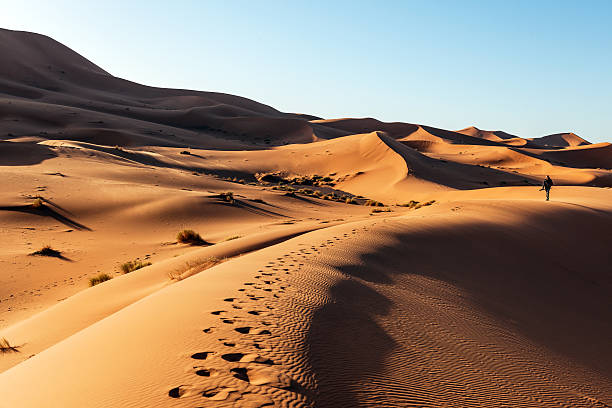animal_footprint: (231, 225, 350, 323), (247, 366, 291, 385), (221, 353, 274, 364), (202, 387, 240, 400), (191, 352, 215, 360), (169, 386, 184, 397), (234, 326, 251, 333), (202, 327, 214, 333), (197, 369, 209, 375), (211, 310, 225, 314)
